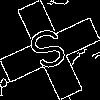S: (25, 25, 75, 81)
